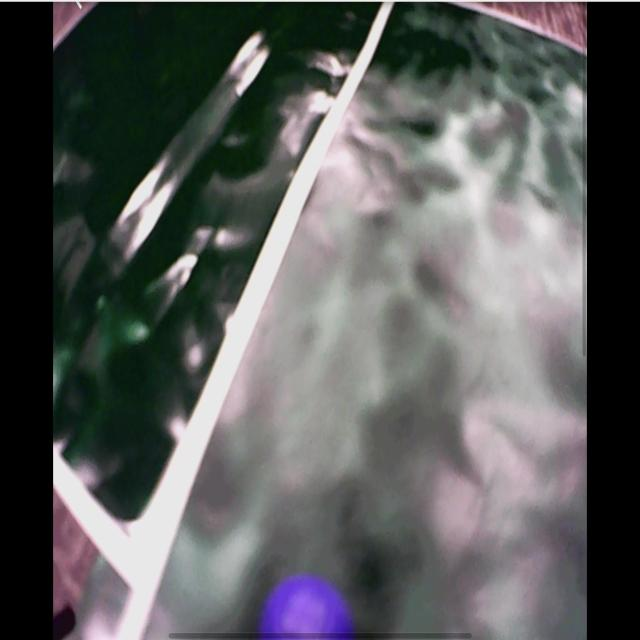ball: (261, 576, 350, 640)
